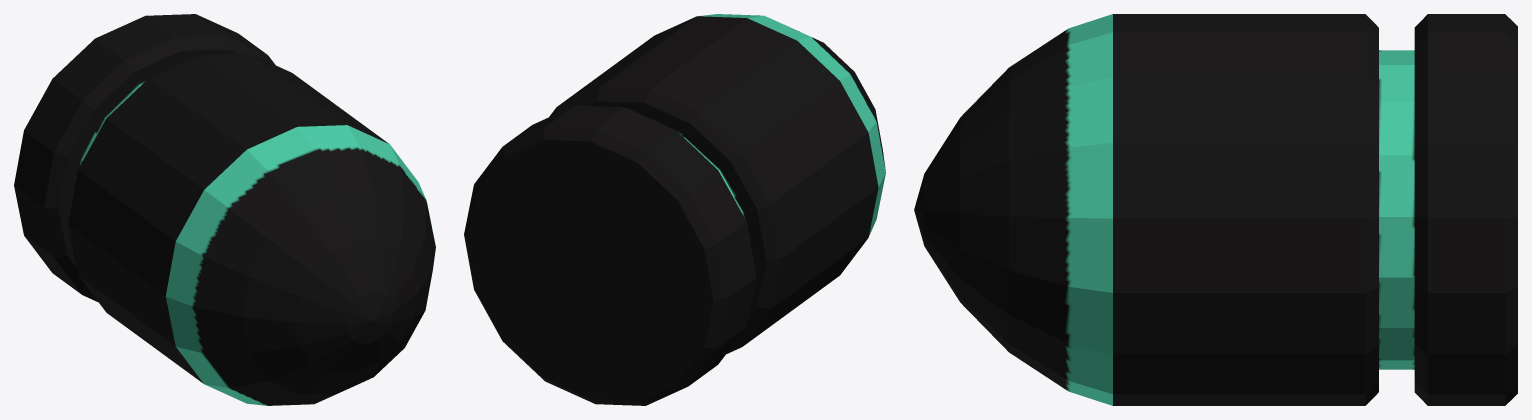
File: bullet.fbx
3 renders of one model, left to right at view 1: azimuth 30°, elevation 25°; view 2: azimuth 150°, elevation 25°; view 3: azimuth 270°, elevation 25°, orthographic. The views are drawn at different scales.
Visible parts, largest first — view 1: Cylinder; view 2: Cylinder; view 3: Cylinder.
Boxes of the visible parts, x1,y1,x2,y2 form: Cylinder: (14,14,435,405); Cylinder: (464,14,885,405); Cylinder: (914,14,1517,405).
Size of the model in its own units: 21.74 by 21.74 by 33.46.
1 material, 1 textured.
